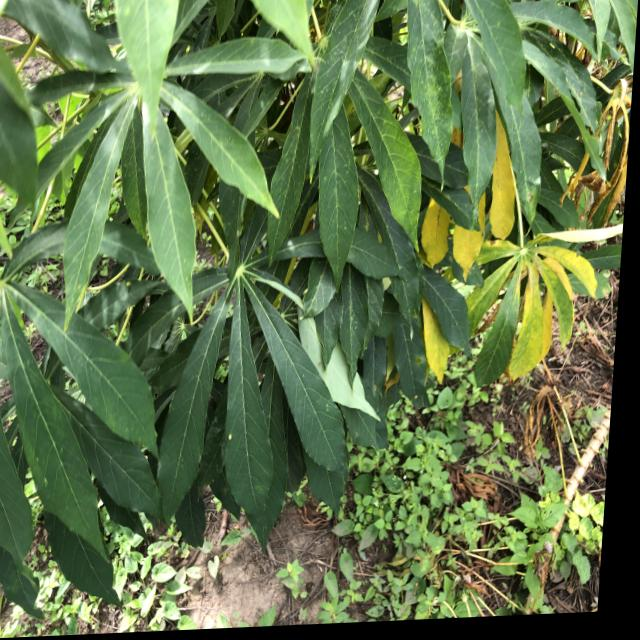Maleza: (396, 429, 632, 640)
Mosaico: (462, 232, 593, 373)
Mosca: (217, 427, 236, 446)
